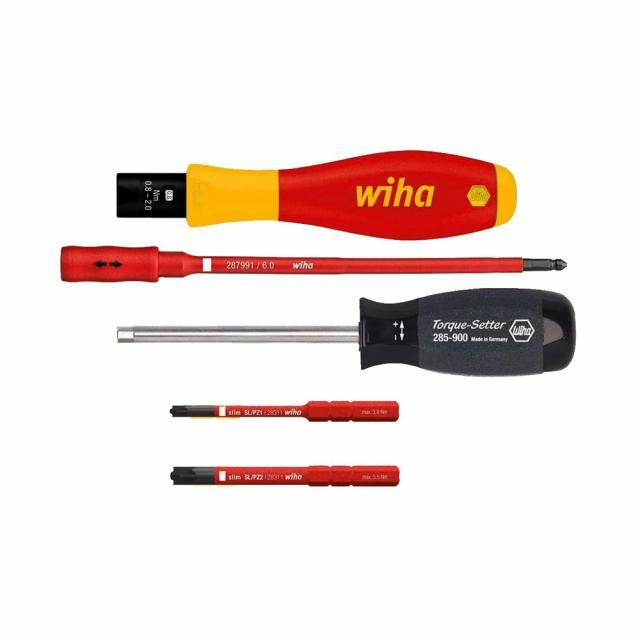screwdriver: (111, 285, 578, 384), (49, 232, 572, 286)
